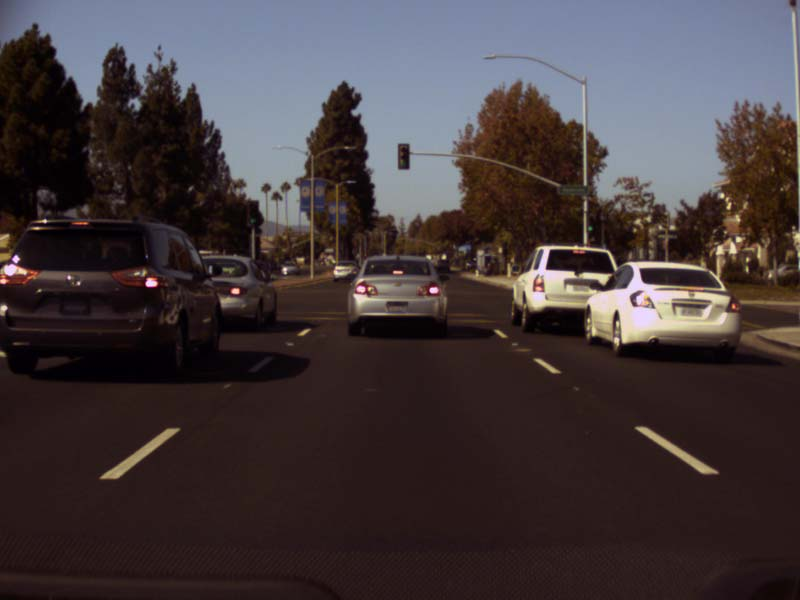Green: (246, 200, 258, 227), (398, 143, 409, 168), (587, 213, 594, 232)
